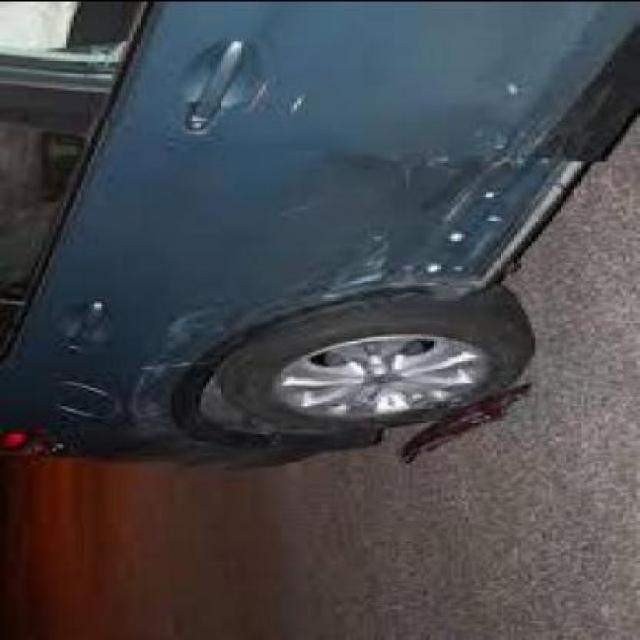damage: (126, 86, 621, 453)
